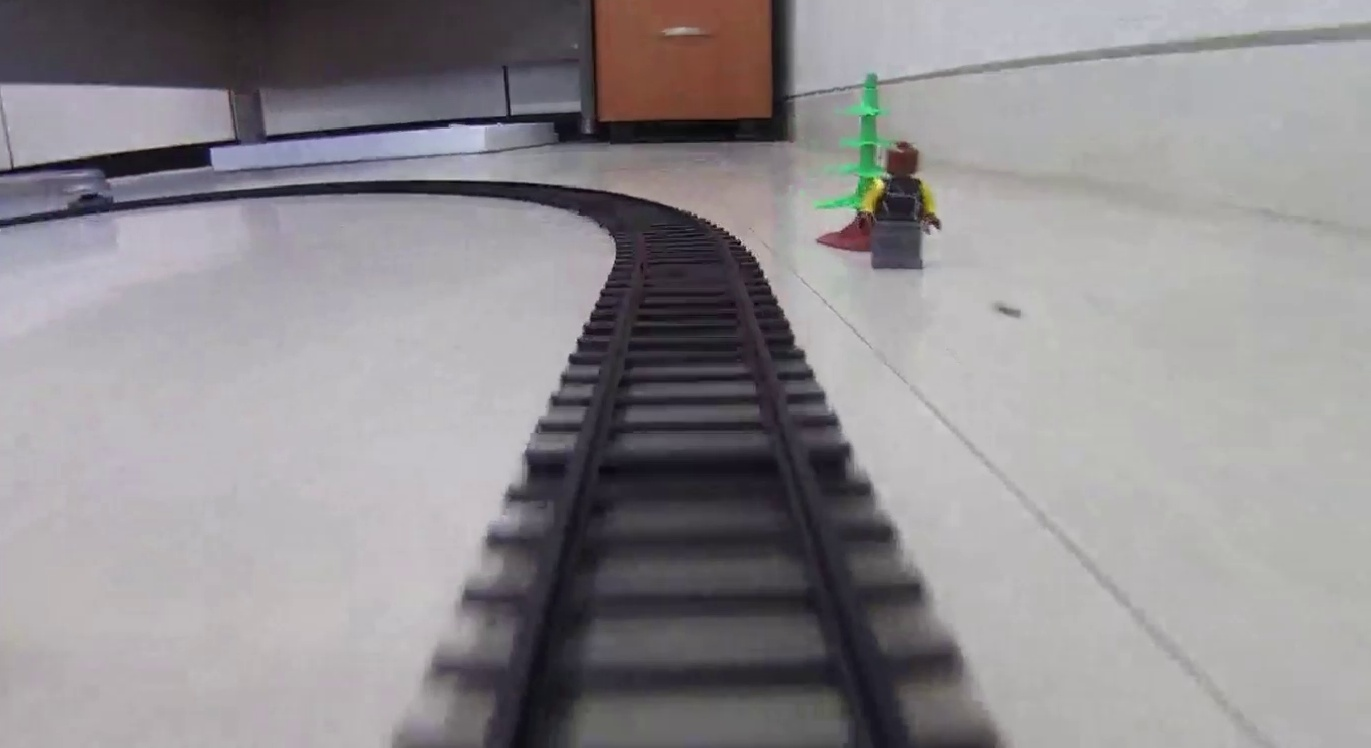people: (861, 140, 943, 267)
